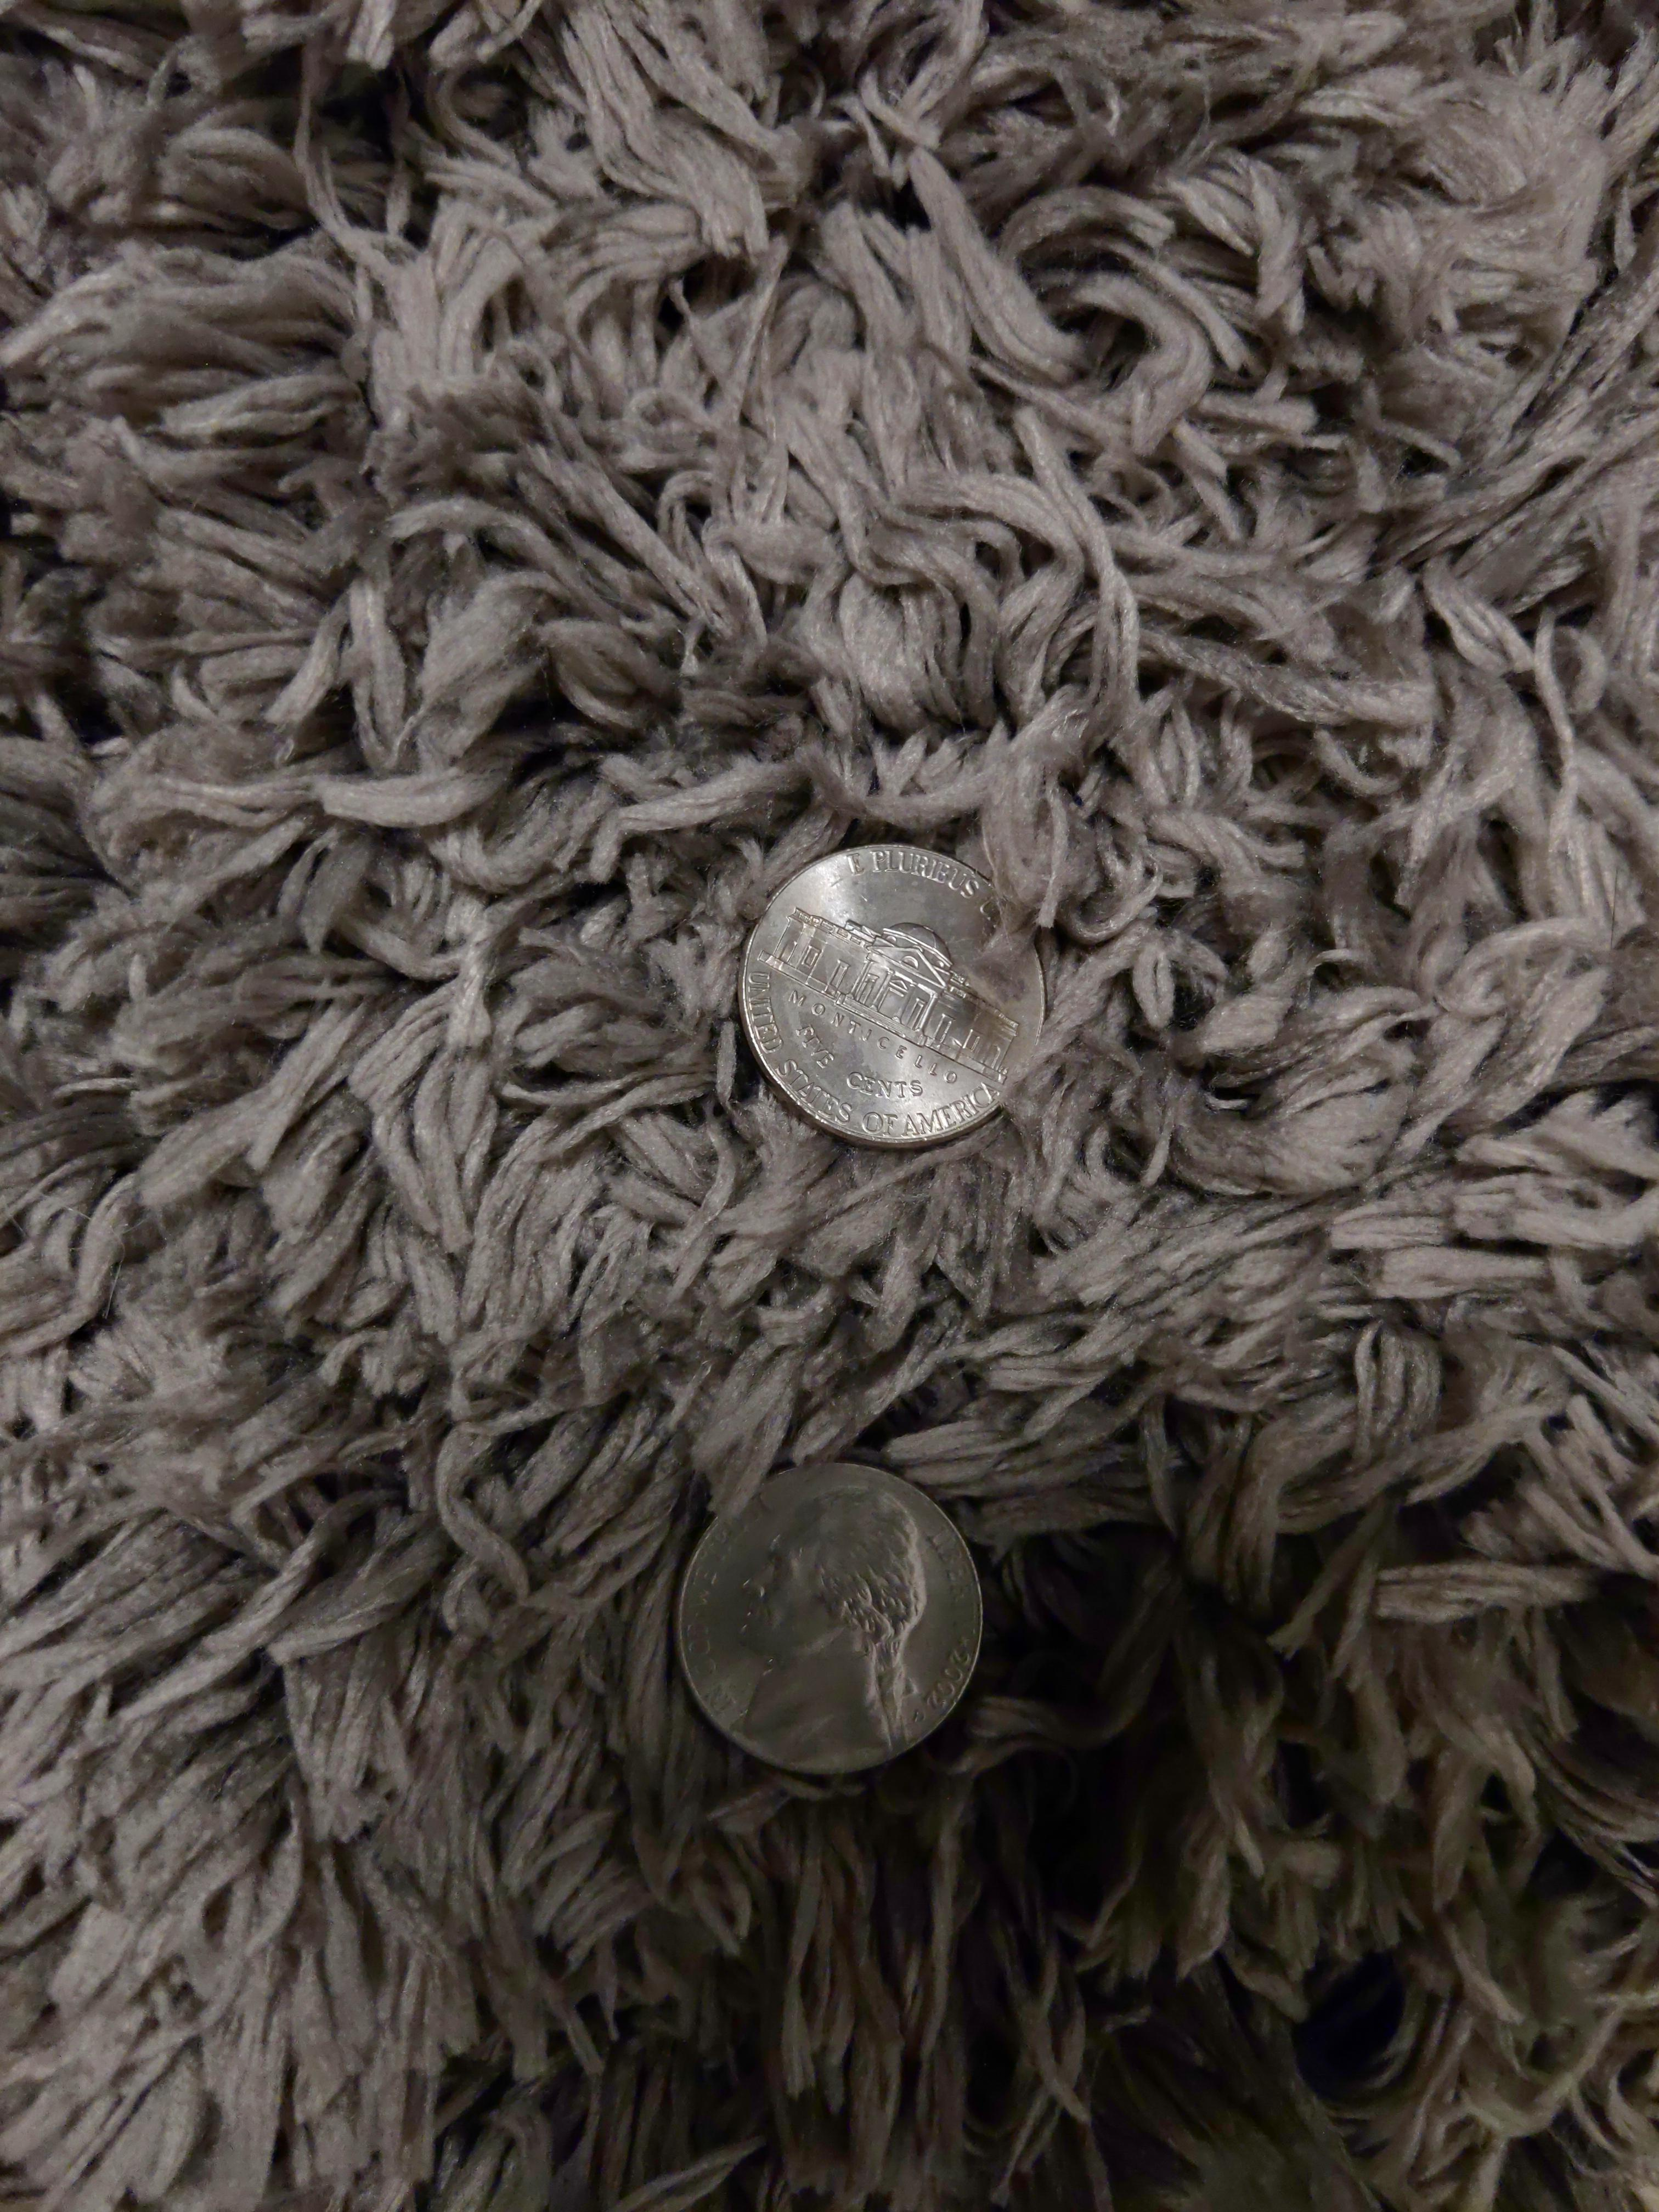Nickel: (673, 1454, 990, 1782), (739, 841, 1047, 1151)
